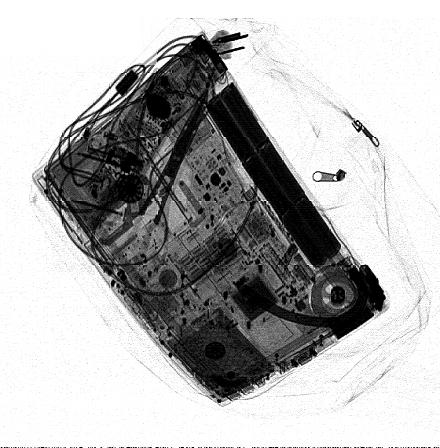Scissors: (101, 67, 211, 280)
